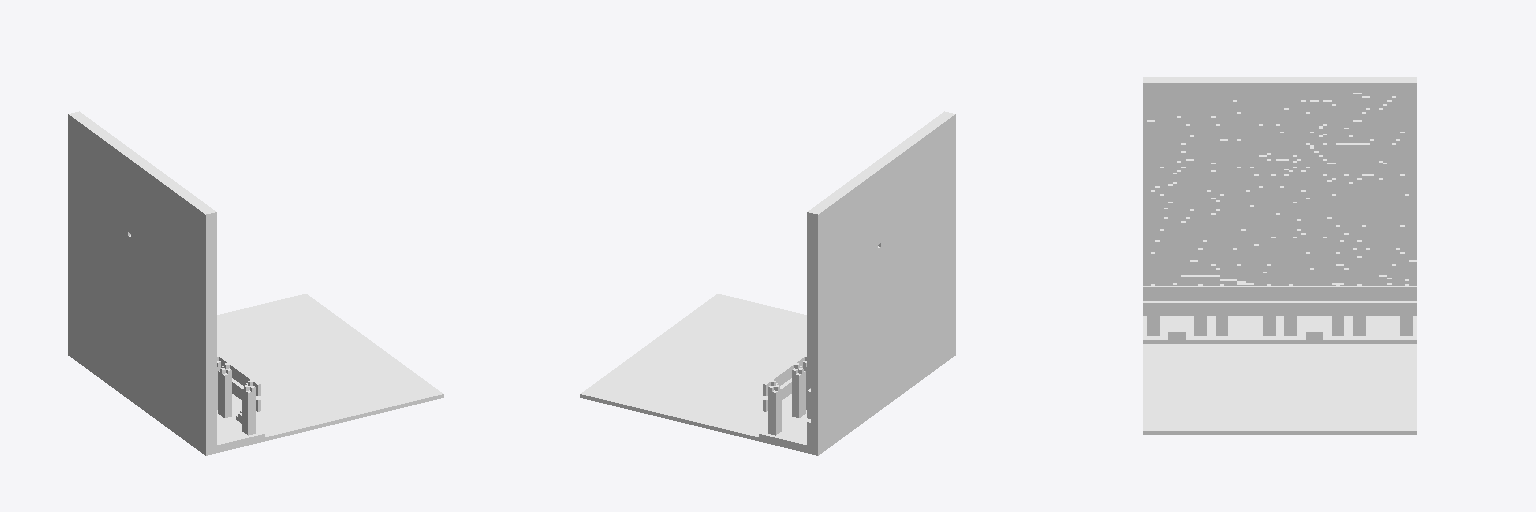
The model's file is Tutorialmap_V2_unfinished-9.obj.
3 renders of one model, left to right at view 1: azimuth 30°, elevation 25°; view 2: azimuth 150°, elevation 25°; view 3: azimuth 270°, elevation 25°, orthographic.
Parts seen in each view (by area): view 1: object 1; view 2: object 1; view 3: object 1.
Boxes of the visible parts, <box> form: object 1: <box>68,111,443,455</box>; object 1: <box>580,111,955,455</box>; object 1: <box>1143,77,1416,434</box>.
Bounding box in the file's own units: 6.4 × 6.2 × 6.4.